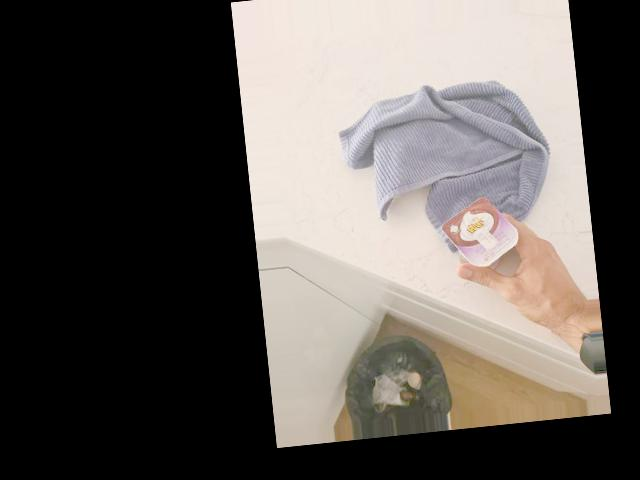milky: (438, 198, 518, 274)
